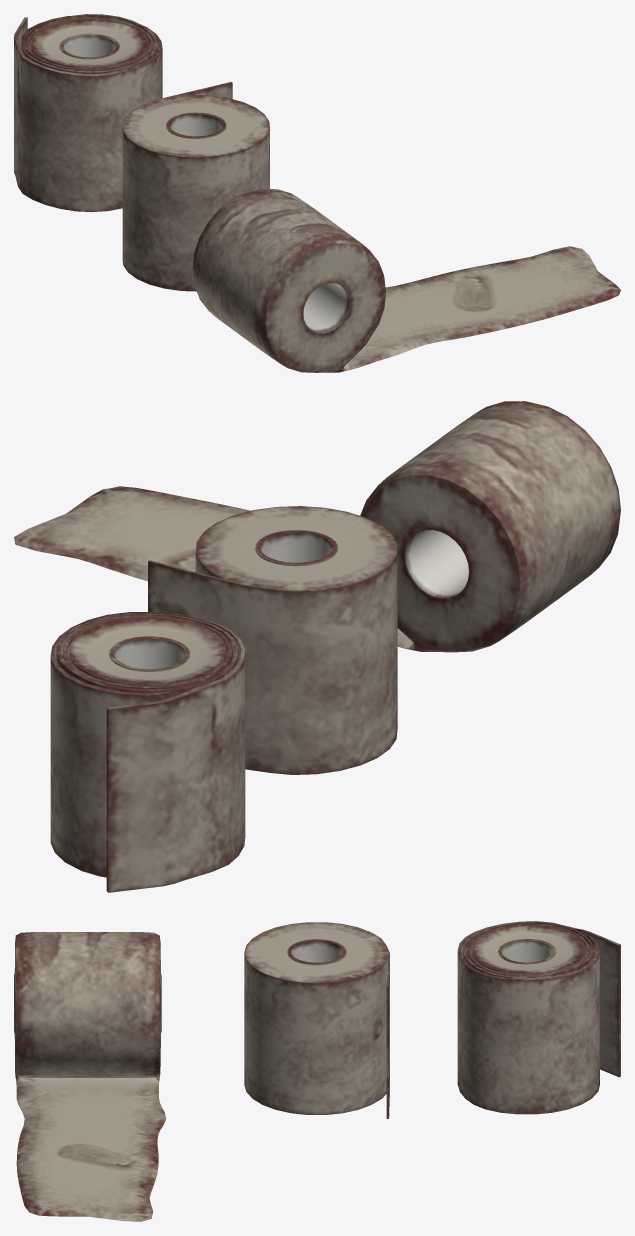
Rendered from worm-bandages.fbx.
3 renders of one model, top to bottom at view 1: azimuth 30°, elevation 25°; view 2: azimuth 150°, elevation 25°; view 3: azimuth 270°, elevation 25°, orthographic. The views are drawn at different scales.
Visible parts, largest first — view 1: Object_8, Object_6, Object_4; view 2: Object_8, Object_6, Object_4; view 3: Object_8, Object_6, Object_4.
Part boxes in pixels (bbox=[...]): Object_8: bbox=[192, 189, 620, 372]; Object_6: bbox=[14, 14, 162, 212]; Object_4: bbox=[122, 82, 269, 291]; Object_8: bbox=[14, 401, 620, 652]; Object_6: bbox=[50, 612, 245, 892]; Object_4: bbox=[148, 506, 397, 774]; Object_8: bbox=[14, 932, 166, 1221]; Object_6: bbox=[457, 921, 620, 1114]; Object_4: bbox=[244, 922, 389, 1118].
Size of the model in its own units: 0.3565 by 0.1249 by 0.4975.
